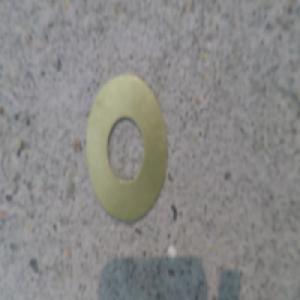Washer: (86, 74, 169, 218)
